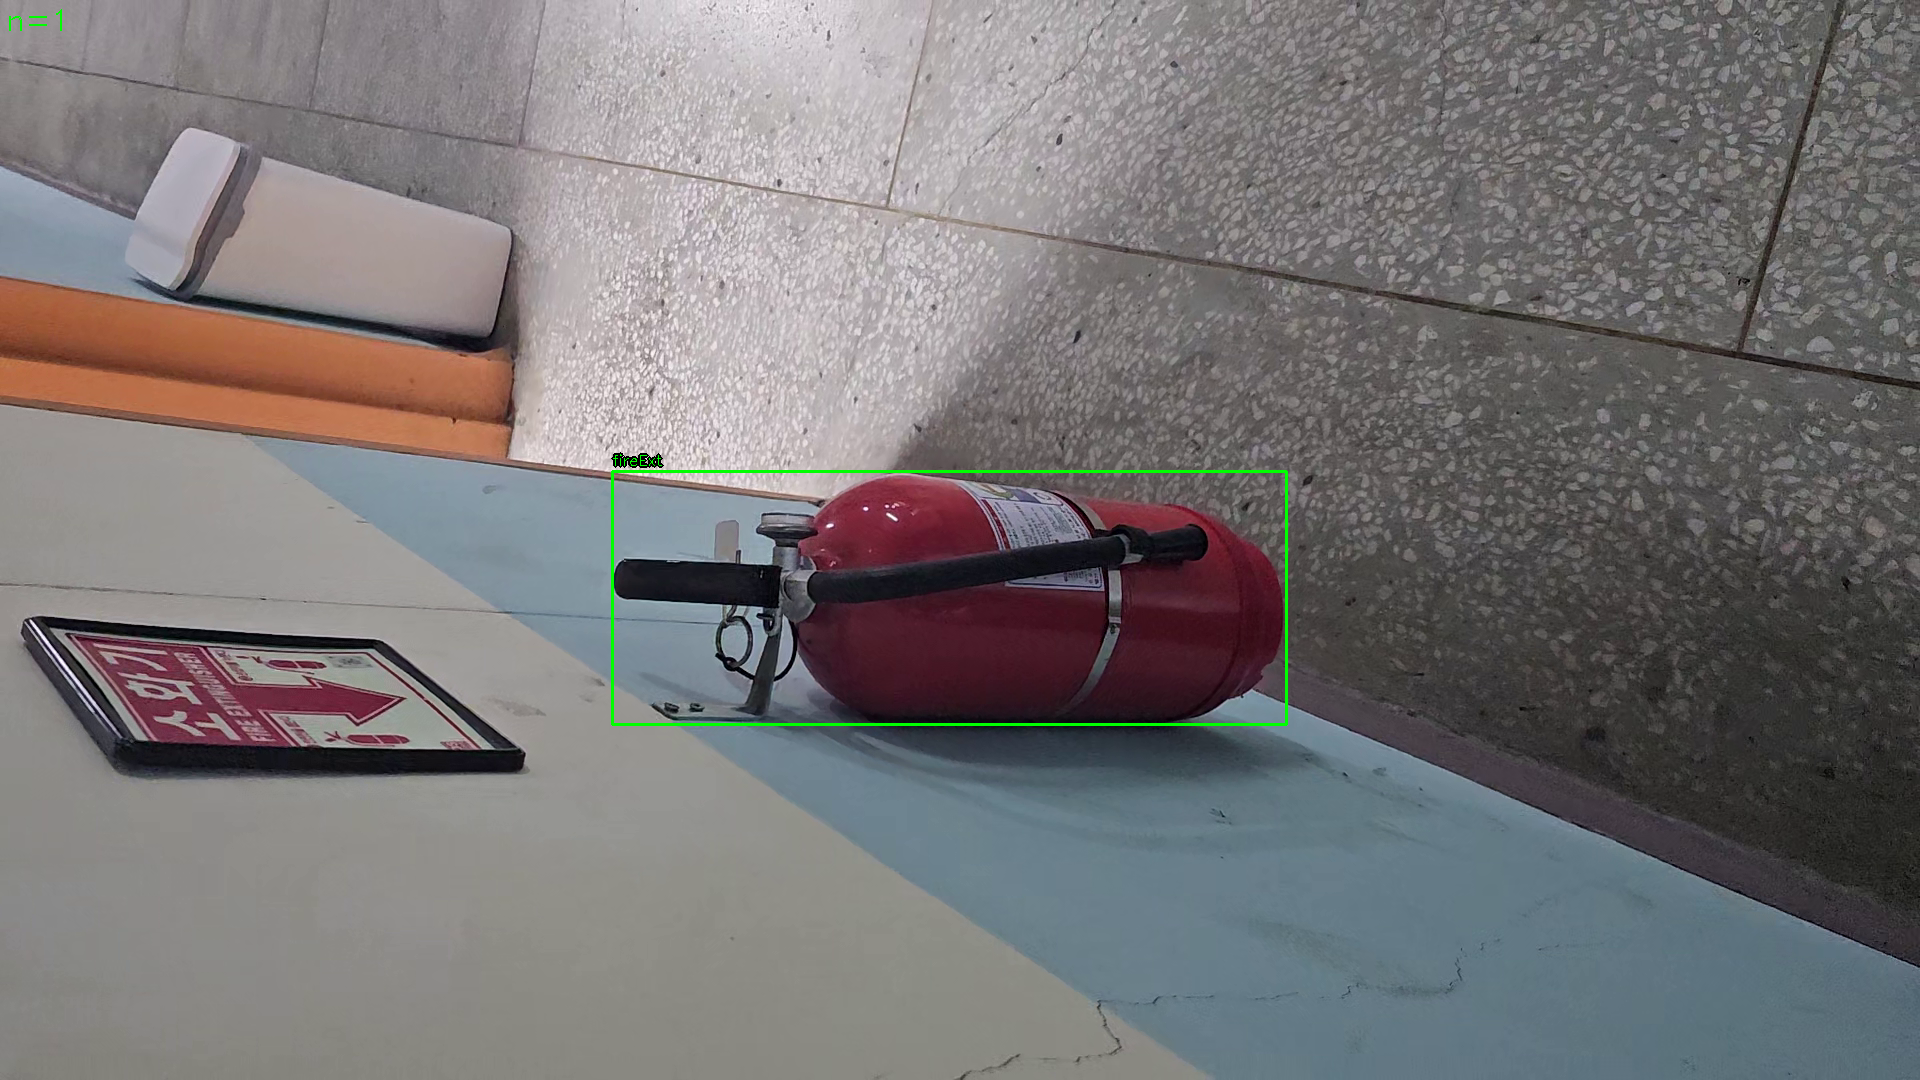lane: (612, 471, 1287, 725)
